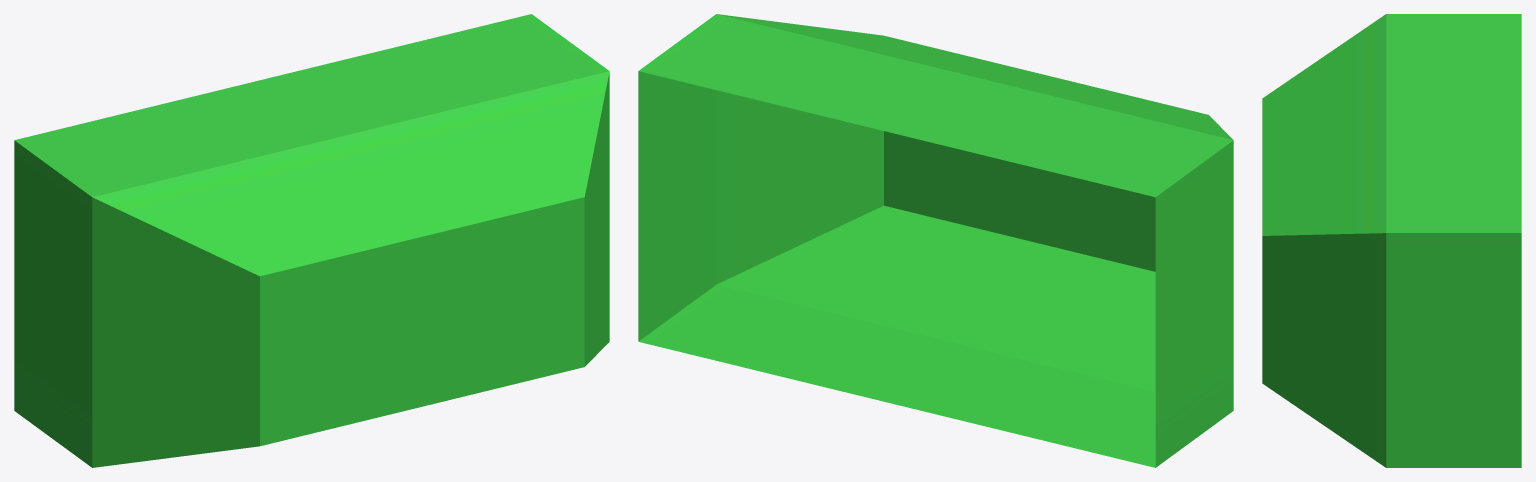
Rendered from BlockGreen.fbx.
3 renders of one model, left to right at view 1: azimuth 30°, elevation 25°; view 2: azimuth 150°, elevation 25°; view 3: azimuth 270°, elevation 25°, orthographic. The views are drawn at different scales.
Parts seen in each view (by area): view 1: BlockGreen; view 2: BlockGreen; view 3: BlockGreen.
Part boxes in pixels (bbox=[...]): BlockGreen: bbox=[14, 14, 609, 467]; BlockGreen: bbox=[638, 14, 1233, 467]; BlockGreen: bbox=[1262, 14, 1521, 467].
Bounding box in the file's own units: 108 × 54.18 × 54.18.
Materials: 1 (1 with a texture image).
